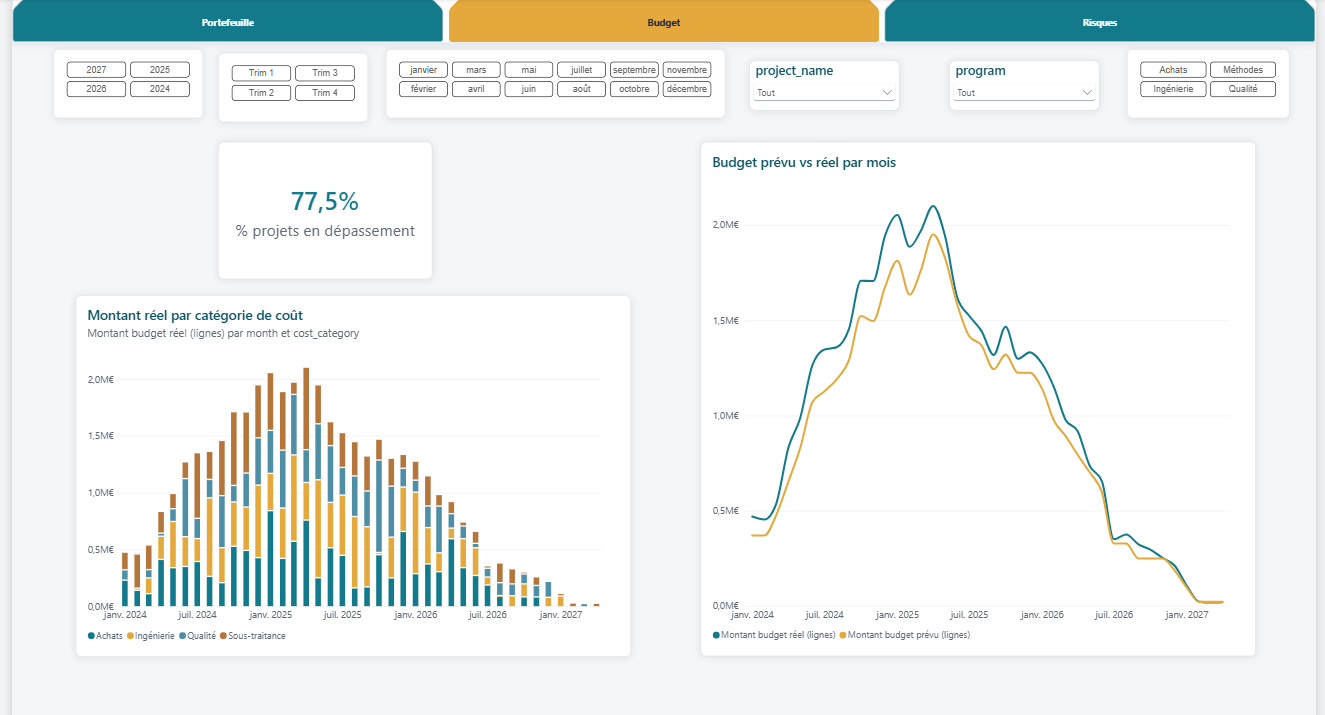

The dashboard page shown, as its layout file describes it:
{"tool":"powerbi","page":{"name":"Budget","canvas":[1280,720],"ordinal":1},"visuals":[{"type":"shape","box":[0,0,1280,48],"z":0},{"type":"textbox","box":[16,2,570,46],"z":100},{"type":"pageNavigator","box":[600,10,664,34],"z":200},{"type":"ChicletSlicer1448559807354","fields":{"Category":["fact_budget_lines.month.Variation.Hiérarchie de dates.Année"]},"box":[16,56,139.3,52],"z":1003},{"type":"ChicletSlicer1448559807354","fields":{"Category":["fact_budget_lines.month.Variation.Hiérarchie de dates.Trimestre"]},"box":[167.3,56,183.3,52],"z":1004},{"type":"ChicletSlicer1448559807354","fields":{"Category":["fact_budget_lines.month.Variation.Hiérarchie de dates.Mois"]},"box":[362.7,56,440,52],"z":1005},{"type":"slicer","fields":{"Values":["mart_kpi_project.project_name"]},"box":[814.7,56,124.7,52],"z":1006},{"type":"slicer","fields":{"Values":["mart_kpi_project.program"]},"box":[951.3,56,124.7,52],"z":1007},{"type":"ChicletSlicer1448559807354","fields":{"Category":["mart_kpi_project.department"]},"box":[1088,56,176,52],"z":1008},{"type":"textbox","box":[16,688,1248,30],"z":1200},{"type":"columnChart","title":"Montant réel par catégorie de coût","fields":{"Category":["fact_budget_lines.month"],"Series":["fact_budget_lines.cost_category"],"Y":["fact_budget_lines.Montant budget réel (lignes)"]},"box":[16,286.8,587.6,393.2],"z":5009},{"type":"lineChart","title":"Budget prévu vs réel par mois","fields":{"Category":["fact_budget_lines.month"],"Y":["fact_budget_lines.Montant budget réel (lignes)","fact_budget_lines.Montant budget prévu (lignes)"]},"box":[676.4,120,587.6,560],"z":5010},{"type":"card","fields":{"Values":["mart_kpi_project.% projets en dépassement"]},"box":[166.6,120,226.8,149.8],"z":5011}]}

Visuals, with their boxes on the page's 1280x720 design canvas (x1, y1, x2, y2). These are canvas units, not pixel positions in the 1325x715 screenshot, which may show the page scaled, cropped or inside an application window:
shape: [0, 0, 1280, 48]
textbox: [16, 2, 586, 48]
pageNavigator: [600, 10, 1264, 44]
ChicletSlicer1448559807354 - fact_budget_lines.month.Variation.Hiérarchie de dates.Année: [16, 56, 155, 108]
ChicletSlicer1448559807354 - fact_budget_lines.month.Variation.Hiérarchie de dates.Trimestre: [167, 56, 351, 108]
ChicletSlicer1448559807354 - fact_budget_lines.month.Variation.Hiérarchie de dates.Mois: [363, 56, 803, 108]
slicer - mart_kpi_project.project_name: [815, 56, 939, 108]
slicer - mart_kpi_project.program: [951, 56, 1076, 108]
ChicletSlicer1448559807354 - mart_kpi_project.department: [1088, 56, 1264, 108]
textbox: [16, 688, 1264, 718]
"Montant réel par catégorie de coût" columnChart: [16, 287, 604, 680]
"Budget prévu vs réel par mois" lineChart: [676, 120, 1264, 680]
card - mart_kpi_project.% projets en dépassement: [167, 120, 393, 270]
